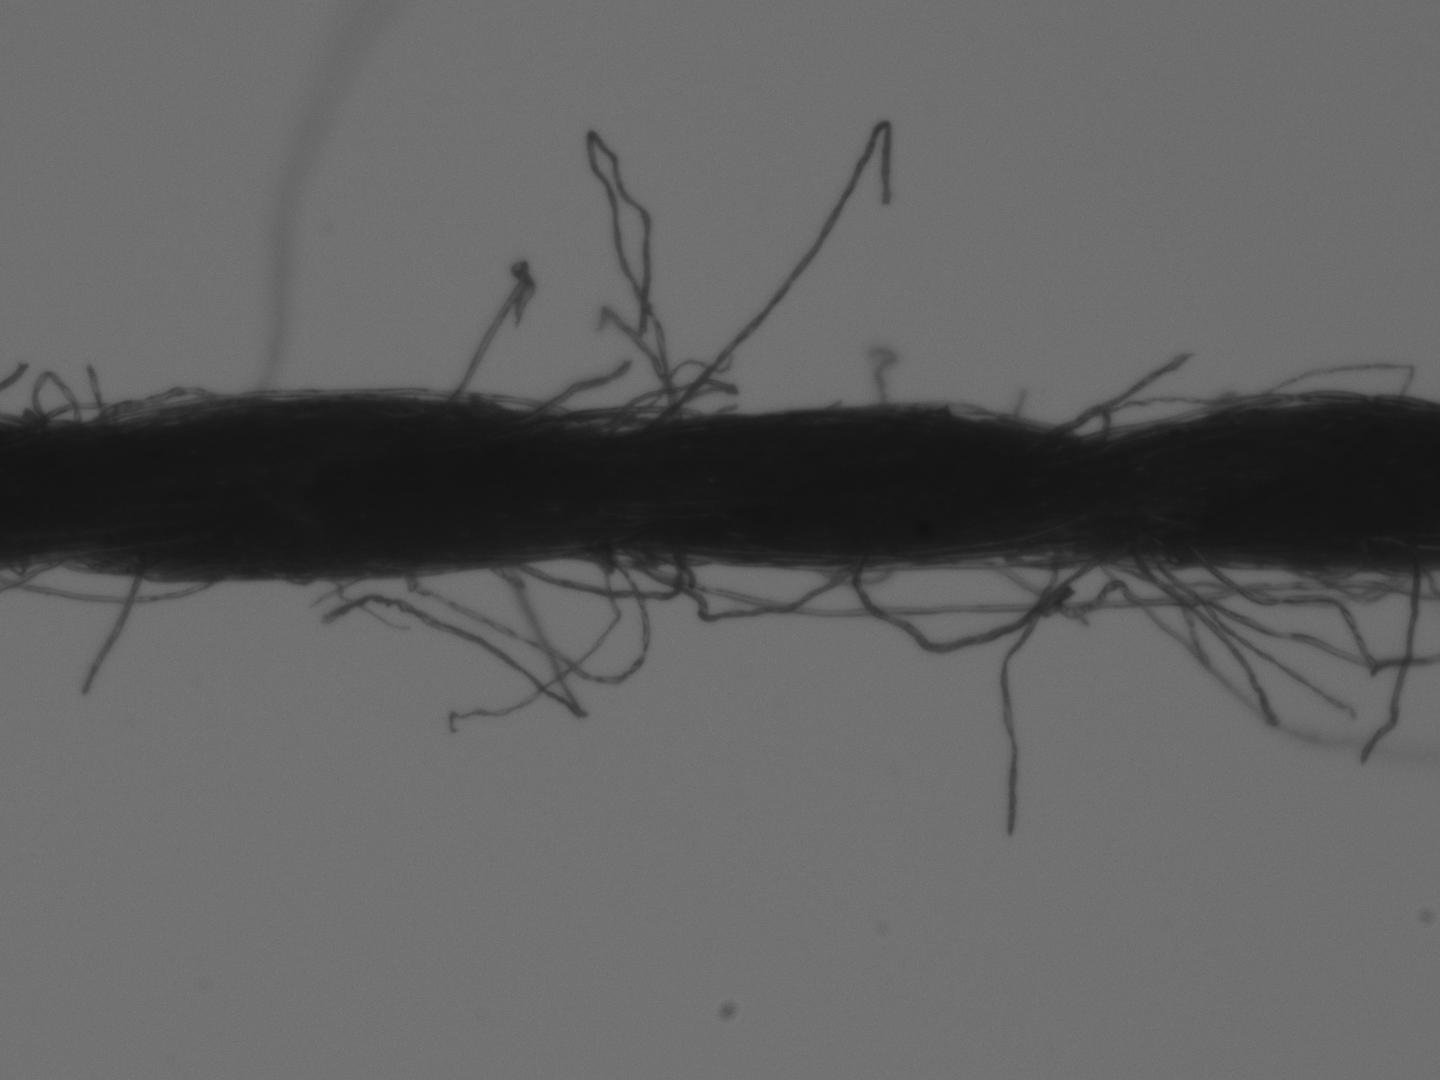loop_fiber: (392, 530, 662, 694), (1017, 360, 1422, 464), (1183, 550, 1438, 680), (849, 547, 1110, 655), (23, 362, 279, 444), (632, 554, 850, 628), (499, 548, 686, 606), (537, 403, 703, 434)
protruding_fiber: (641, 119, 898, 434), (78, 554, 152, 697)
